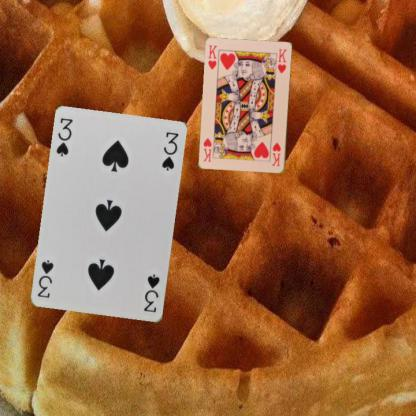3s: (141, 272, 161, 314), (54, 116, 74, 158)
Kh: (269, 140, 282, 167), (206, 43, 218, 71)
